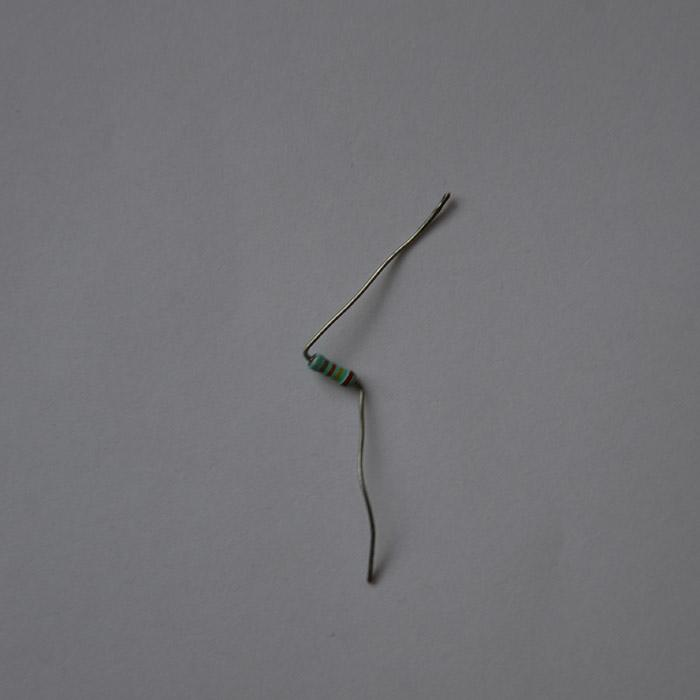resistor: (308, 352, 359, 390)
